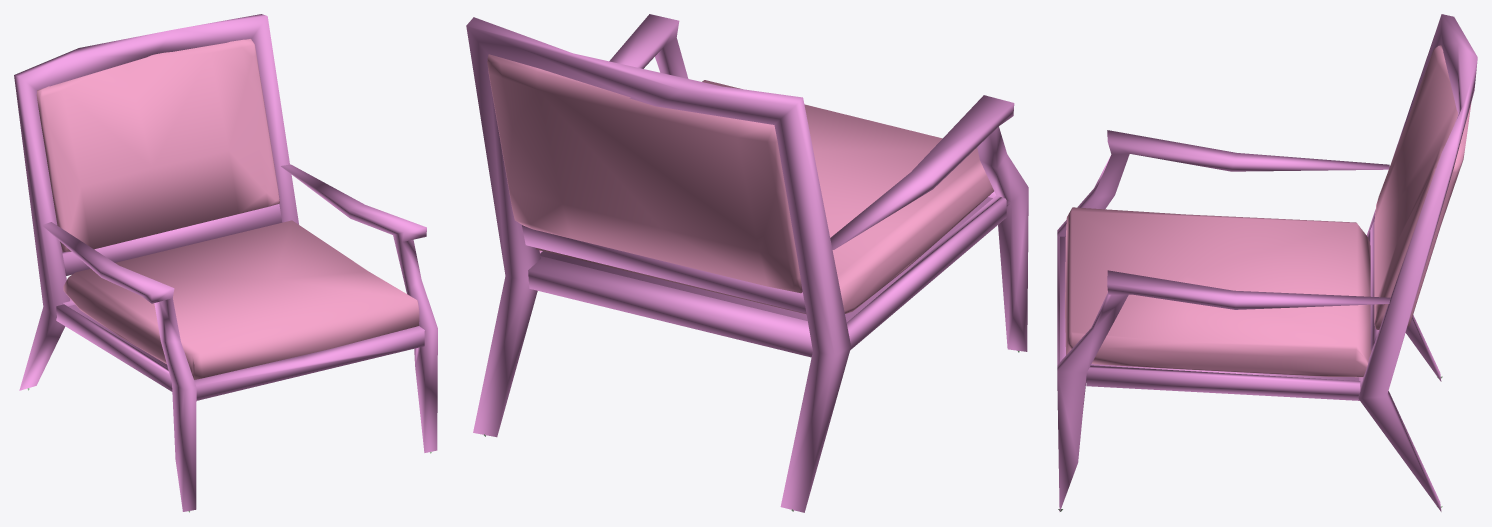
File: red.fbx
The picture shows the model from 3 angles, left to right: view 1: azimuth 30°, elevation 25°; view 2: azimuth 150°, elevation 25°; view 3: azimuth 270°, elevation 25°; orthographic projection. The views are drawn at different scales.
Parts seen in each view (by area): view 1: Box03.004, objPlane04.003; view 2: objPlane04.003, Box03.004; view 3: Box03.004, objPlane04.003.
Part boxes in pixels (x1=…): Box03.004: x1=36, y1=39, x2=419, y2=379; objPlane04.003: x1=14, y1=14, x2=437, y2=511; objPlane04.003: x1=466, y1=14, x2=1028, y2=512; Box03.004: x1=487, y1=54, x2=993, y2=314; Box03.004: x1=1065, y1=45, x2=1471, y2=377; objPlane04.003: x1=1057, y1=14, x2=1477, y2=511.
Bounding box in the file's own units: 259 × 284 × 299.
